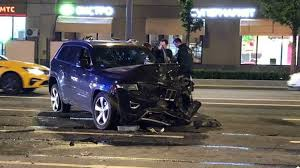car: (42, 33, 216, 133)
